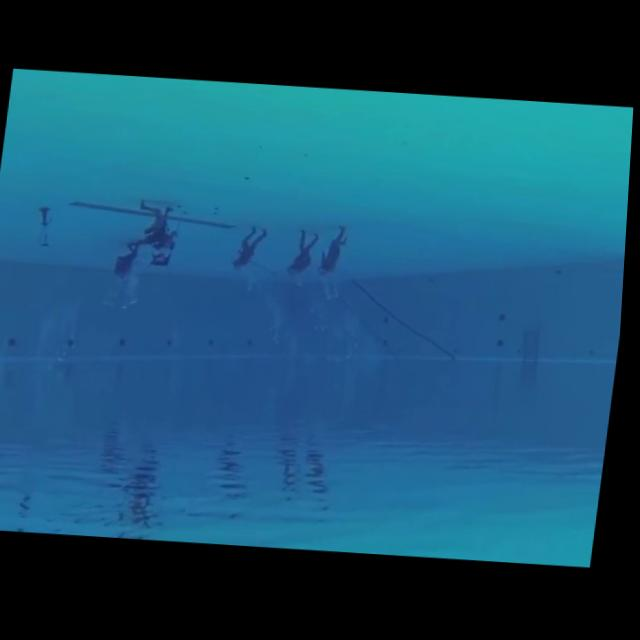human: (129, 192, 196, 262), (311, 216, 361, 291), (278, 221, 329, 290), (229, 215, 277, 276), (107, 244, 149, 294)
